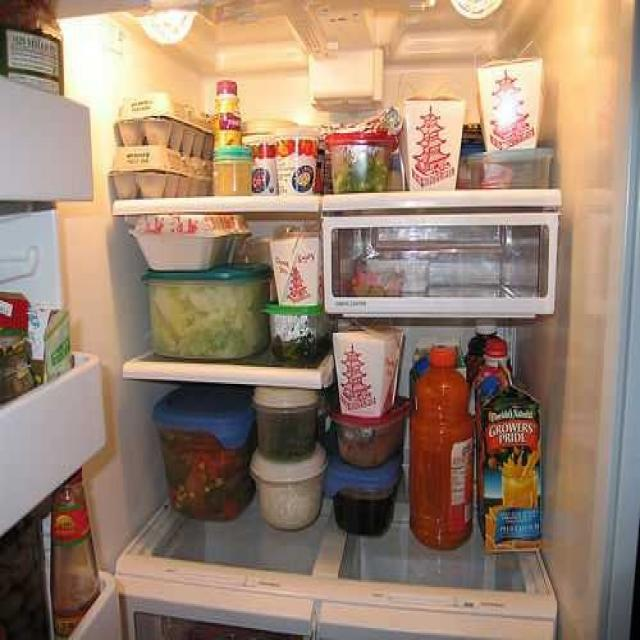refrigerator: (8, 5, 627, 640)
